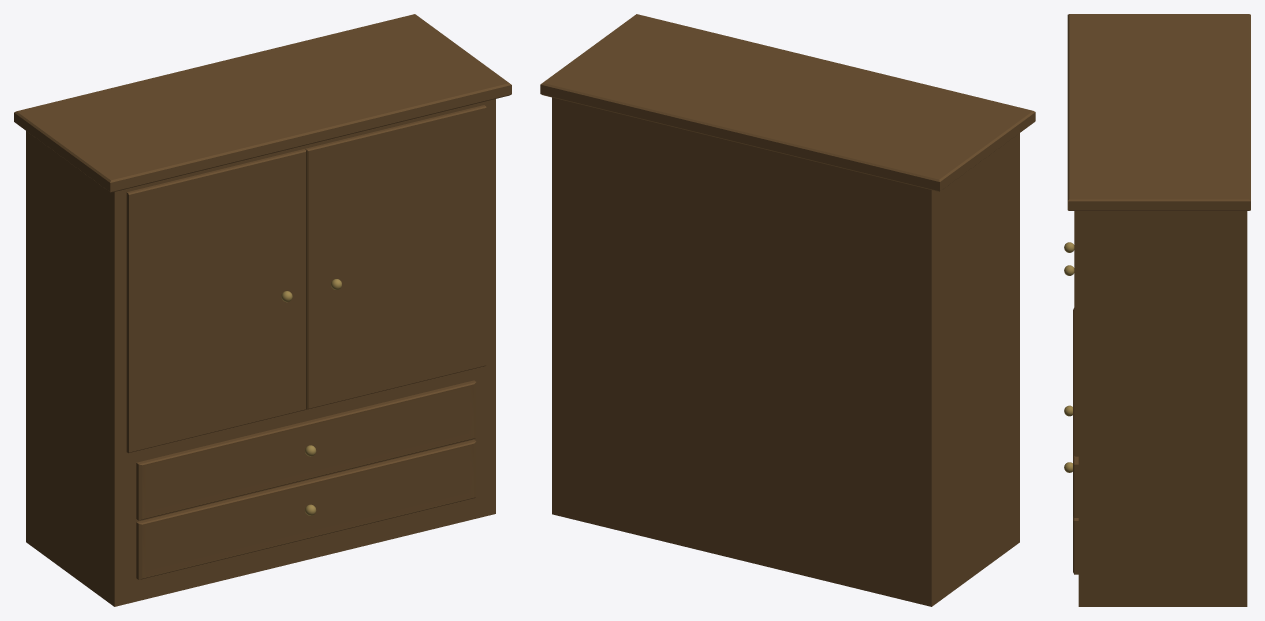
Rendered from DrawerClosedGeo.fbx.
3 views of the same model, side by side, from view 1: azimuth 30°, elevation 25°; view 2: azimuth 150°, elevation 25°; view 3: azimuth 270°, elevation 25° (orthographic). The views are drawn at different scales.
Parts seen in each view (by area): view 1: DrawerClosedGeo; view 2: DrawerClosedGeo; view 3: DrawerClosedGeo.
Boxes of the visible parts, box(x1,y1,x2,y2) form: DrawerClosedGeo: box(14, 14, 511, 606); DrawerClosedGeo: box(540, 14, 1035, 606); DrawerClosedGeo: box(1064, 14, 1250, 606).
Bounding box in the file's own units: 395 × 406 × 167.
